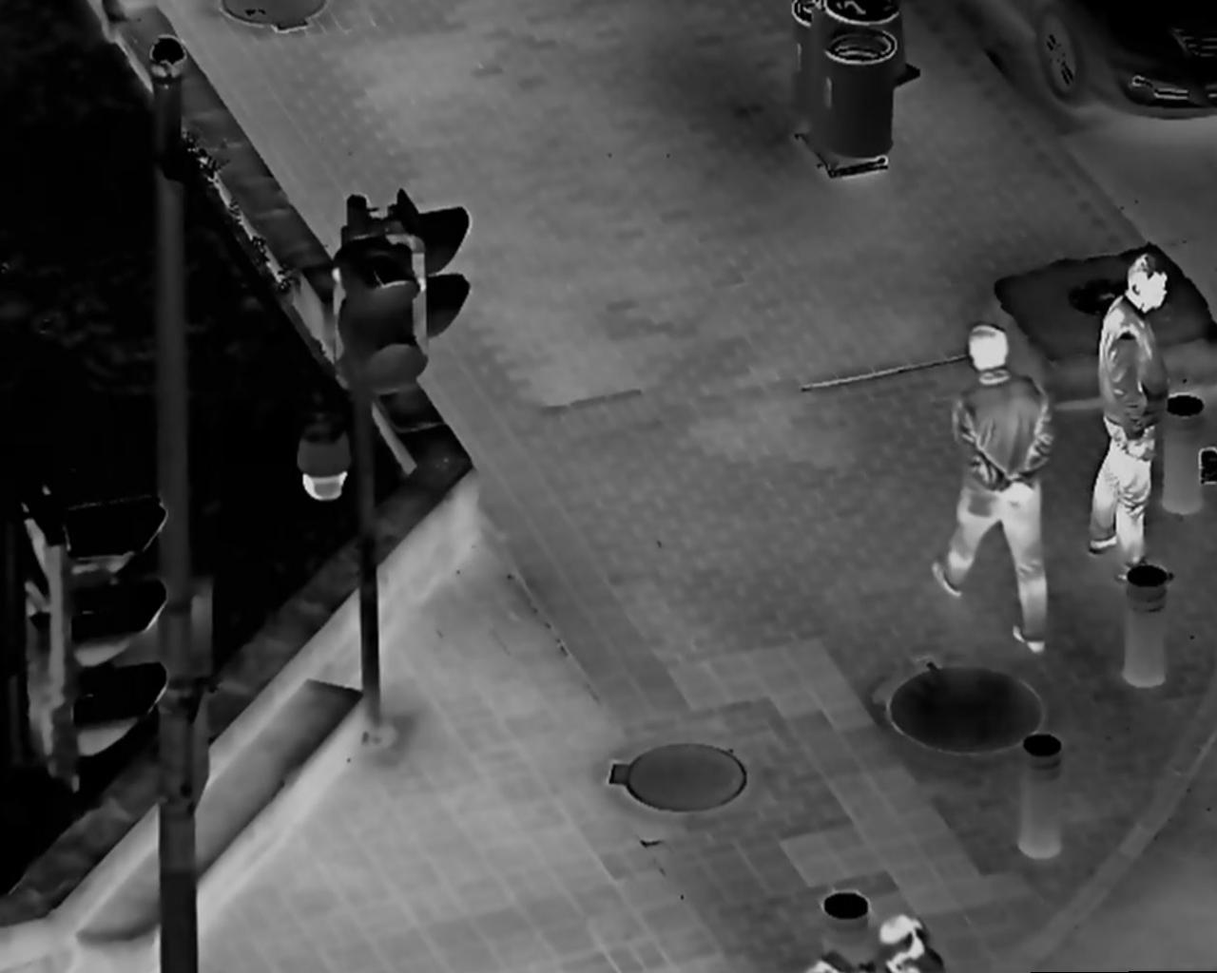person: (931, 321, 1064, 655), (1088, 243, 1183, 588), (860, 906, 946, 973)
